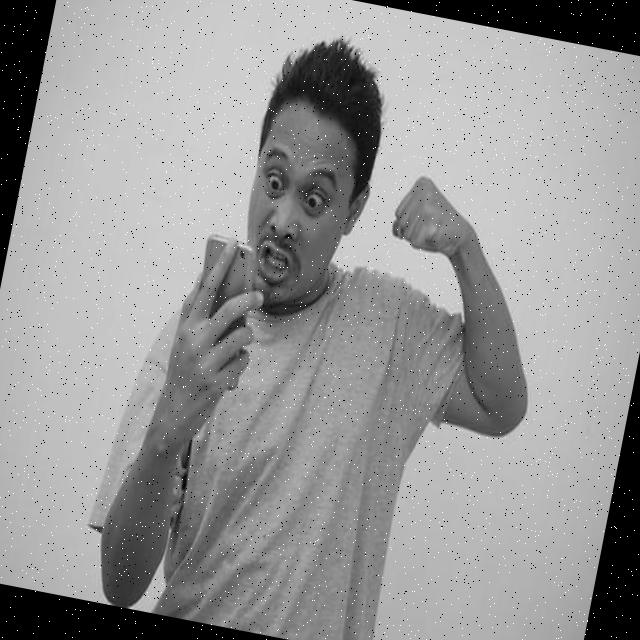Angry: (230, 103, 366, 320)
